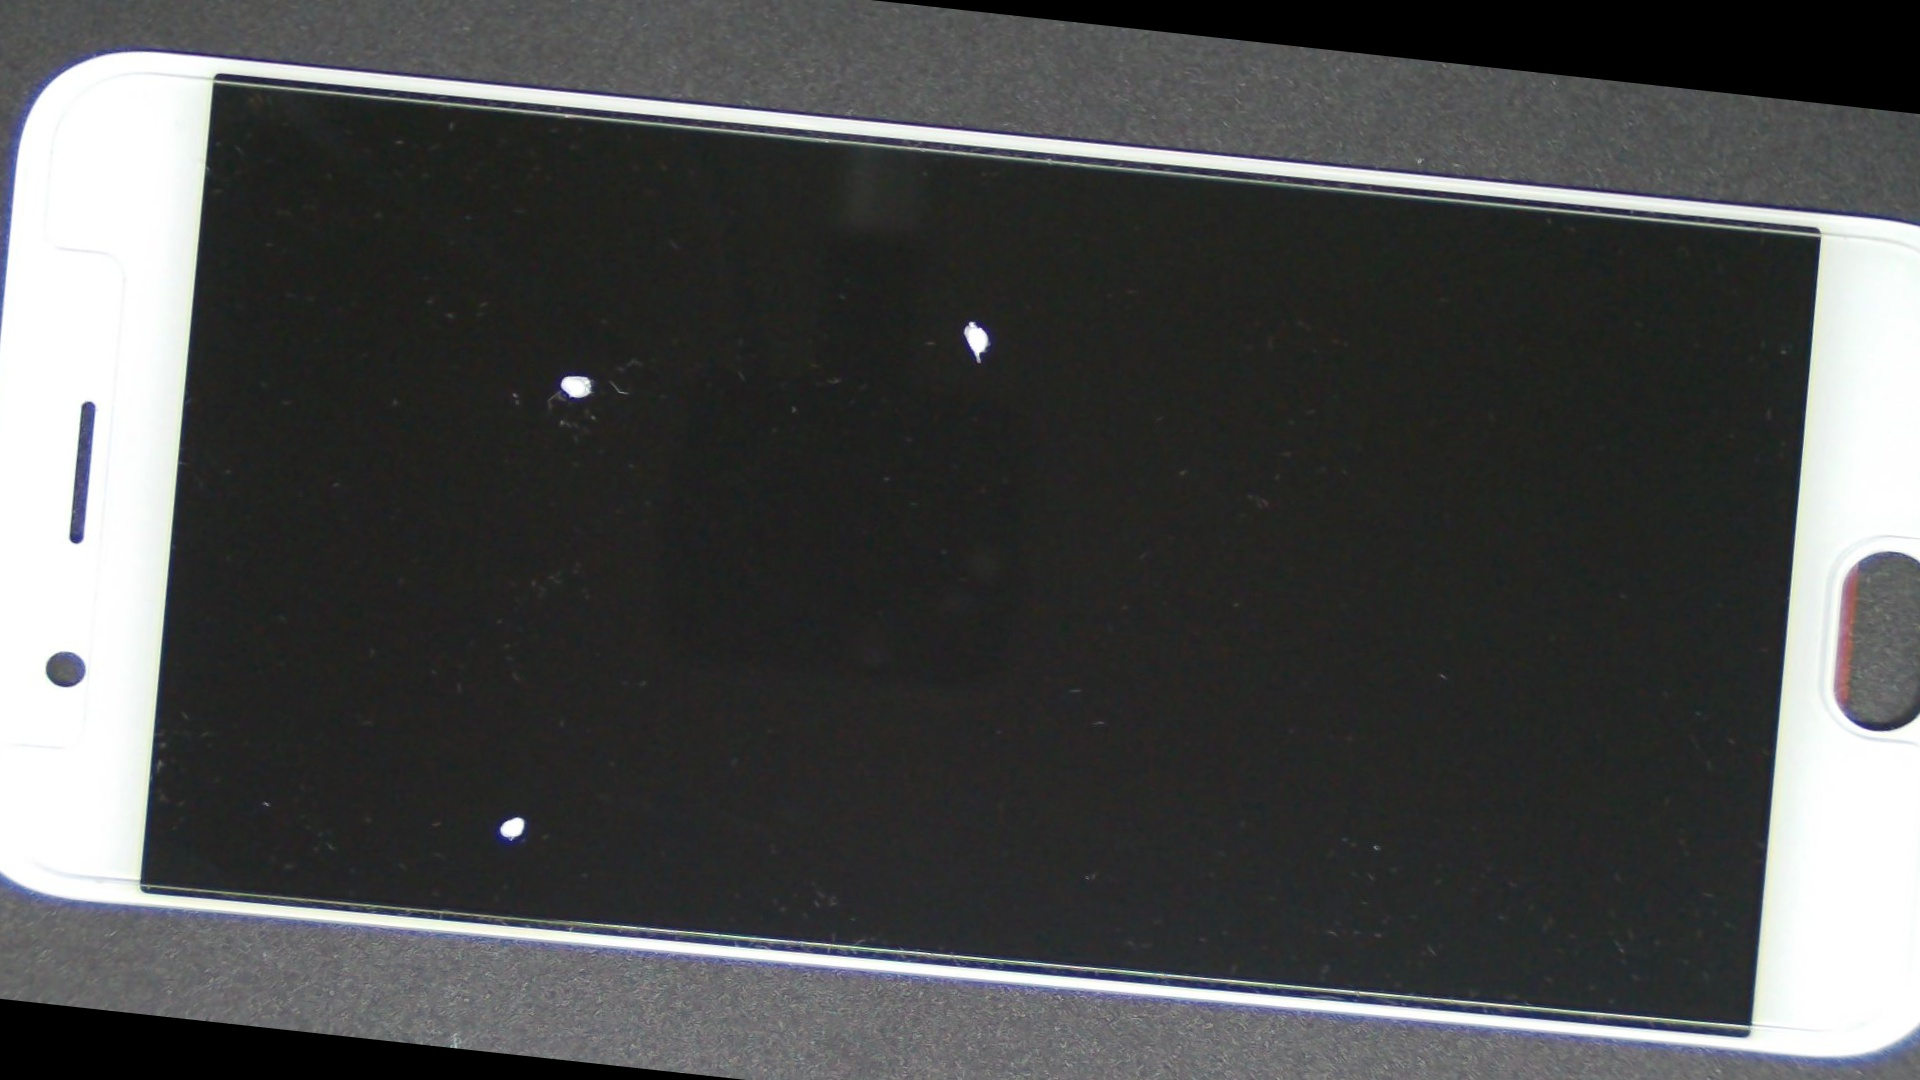oil: (162, 357, 891, 1080), (430, 109, 1520, 529), (216, 136, 923, 611)
